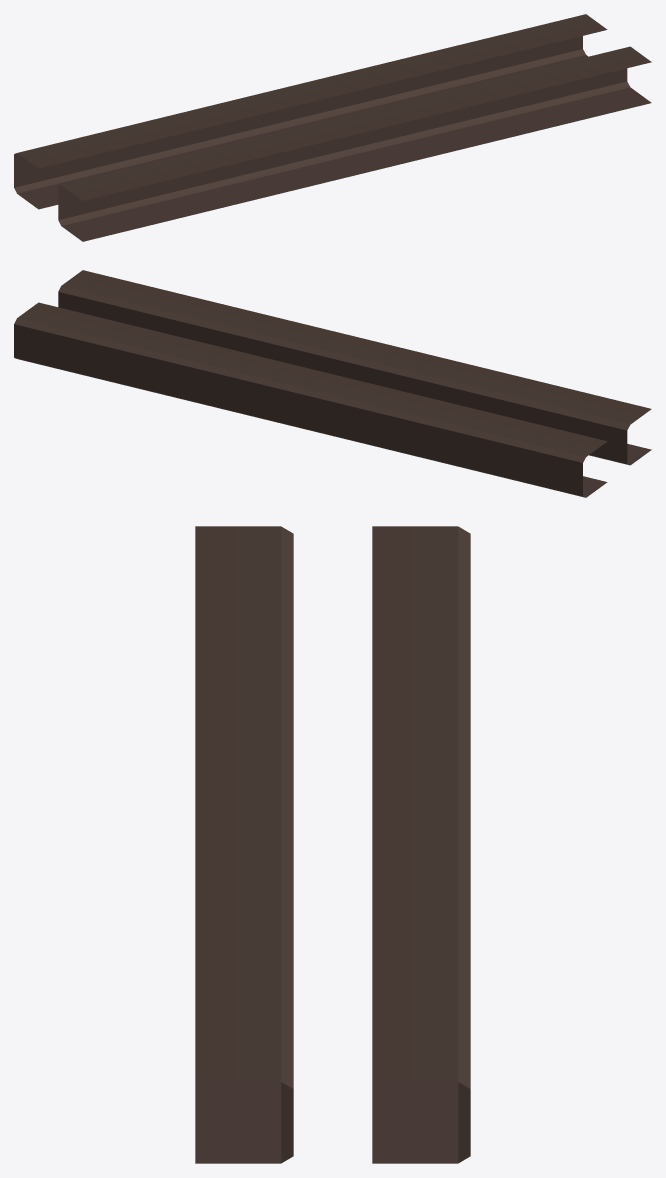
File: Wood Bridge Railing 01.FBX
3 renders of one model, top to bottom at view 1: azimuth 30°, elevation 25°; view 2: azimuth 150°, elevation 25°; view 3: azimuth 270°, elevation 25°, orthographic. The views are drawn at different scales.
Visible parts, largest first — view 1: Wood Bridge Railing 01; view 2: Wood Bridge Railing 01; view 3: Wood Bridge Railing 01.
Boxes of the visible parts, x1,y1,x2,y2 form: Wood Bridge Railing 01: (14,14,651,241); Wood Bridge Railing 01: (14,270,651,497); Wood Bridge Railing 01: (195,526,470,1163).
Bounding box in the file's own units: 200 × 13.7 × 41.93.
